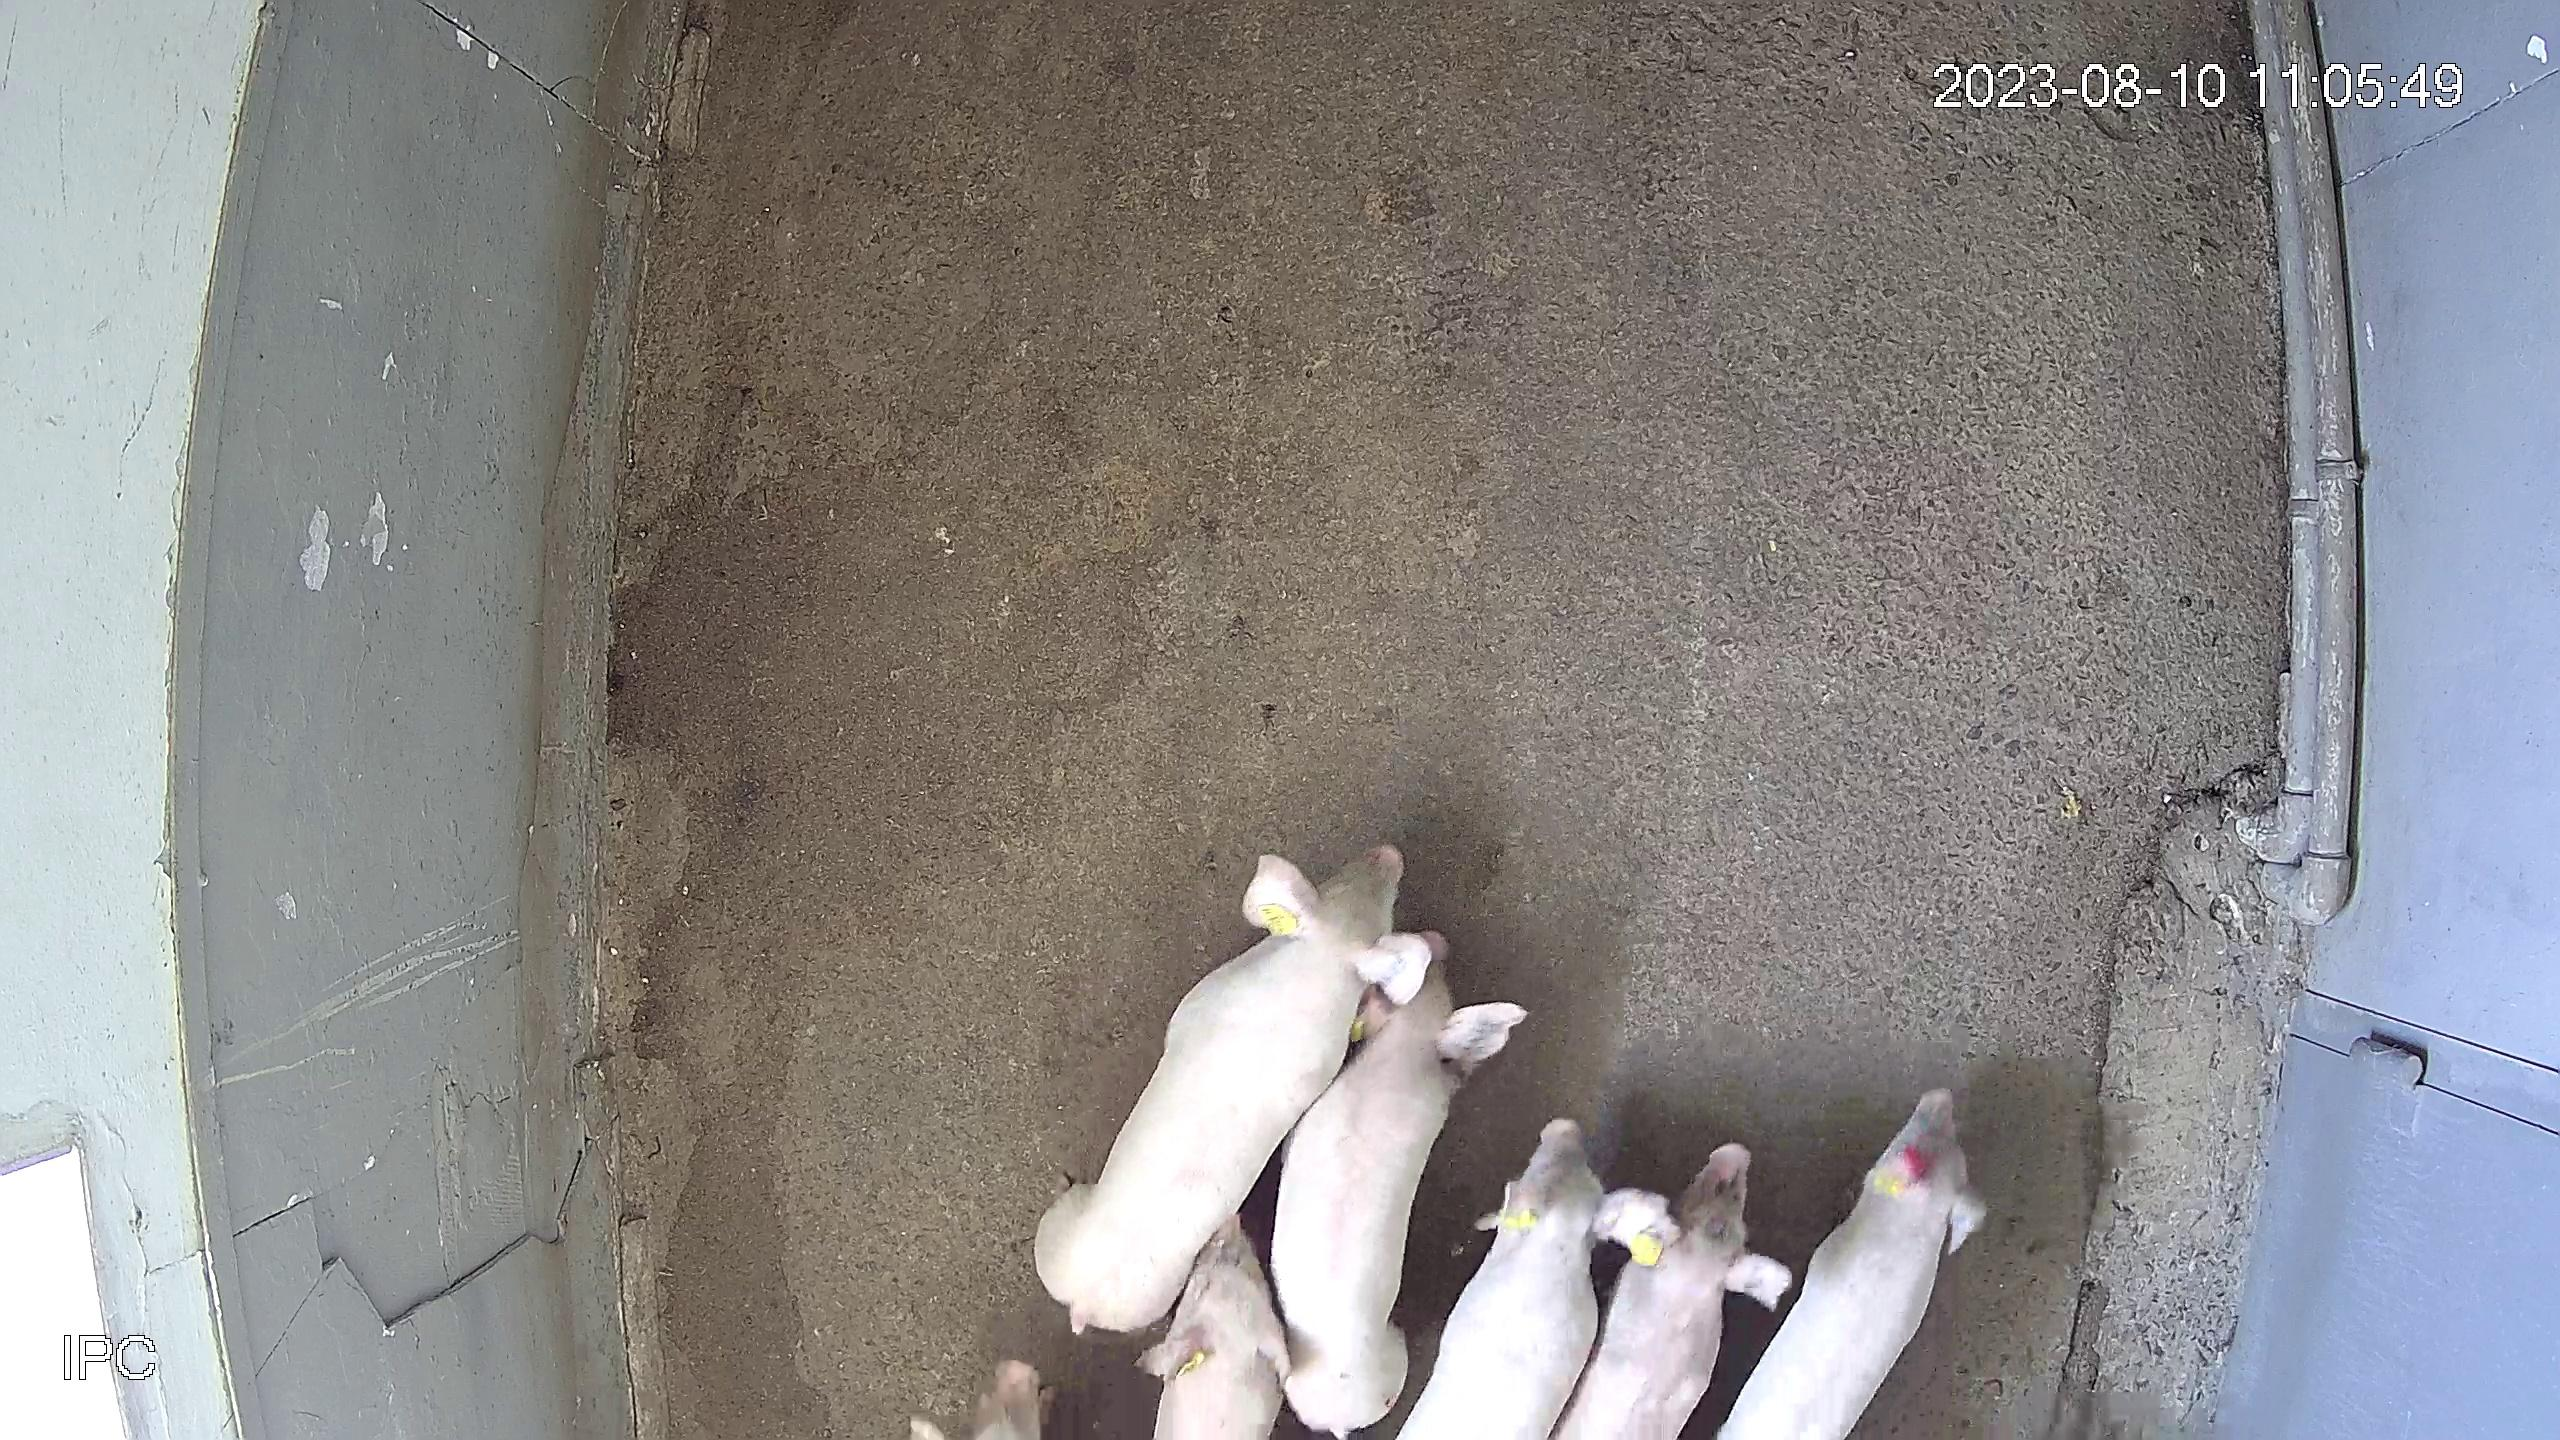Pig: (1034, 844, 1431, 1333), (1271, 965, 1528, 1438), (1720, 1088, 1989, 1440), (1400, 1118, 1679, 1440), (1554, 1145, 1760, 1440), (1138, 1215, 1291, 1440), (969, 1361, 1043, 1440)
